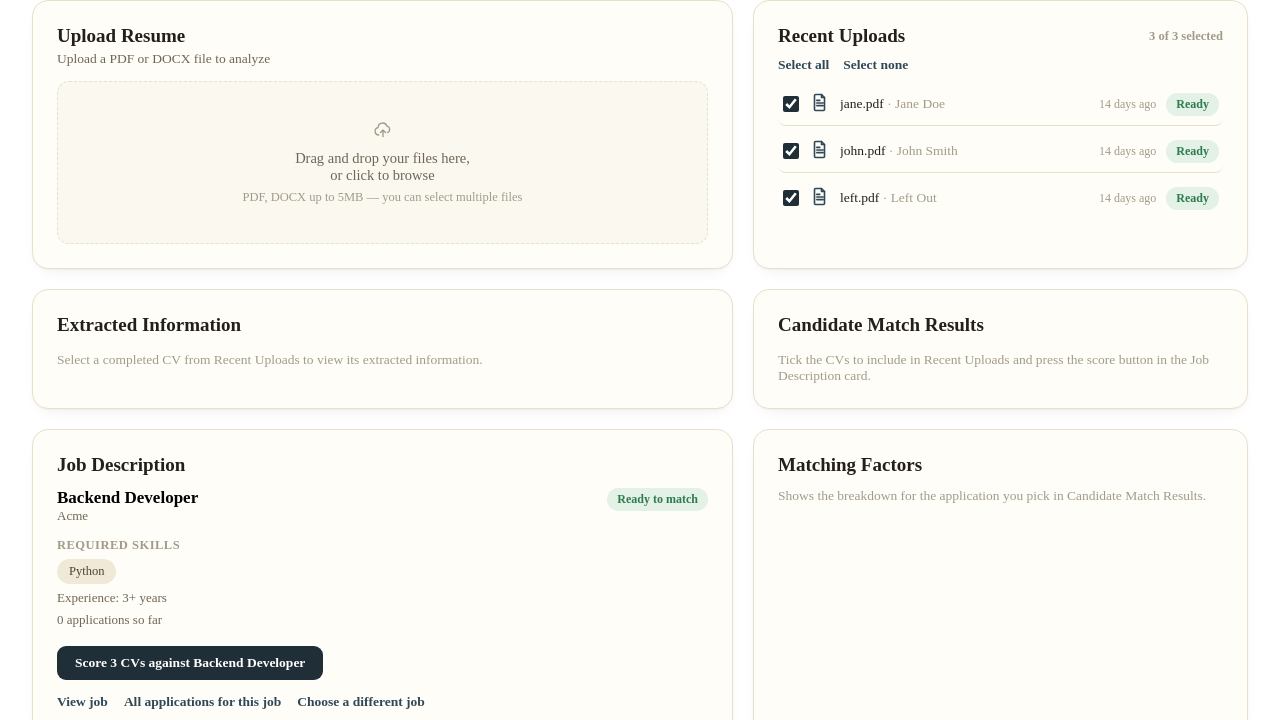
Scenario: DashboardPage - batch ranking and breakdown › select two CVs → score → ranking renders → clicking the second row fills the factors card
Expected: the text "3 of 3 selected" is shown, [1149,28,1223,44]
Click the checkbox named "Include left.pdf in the batch" at (791, 198), box [783,190,799,206]
(page scrolled)
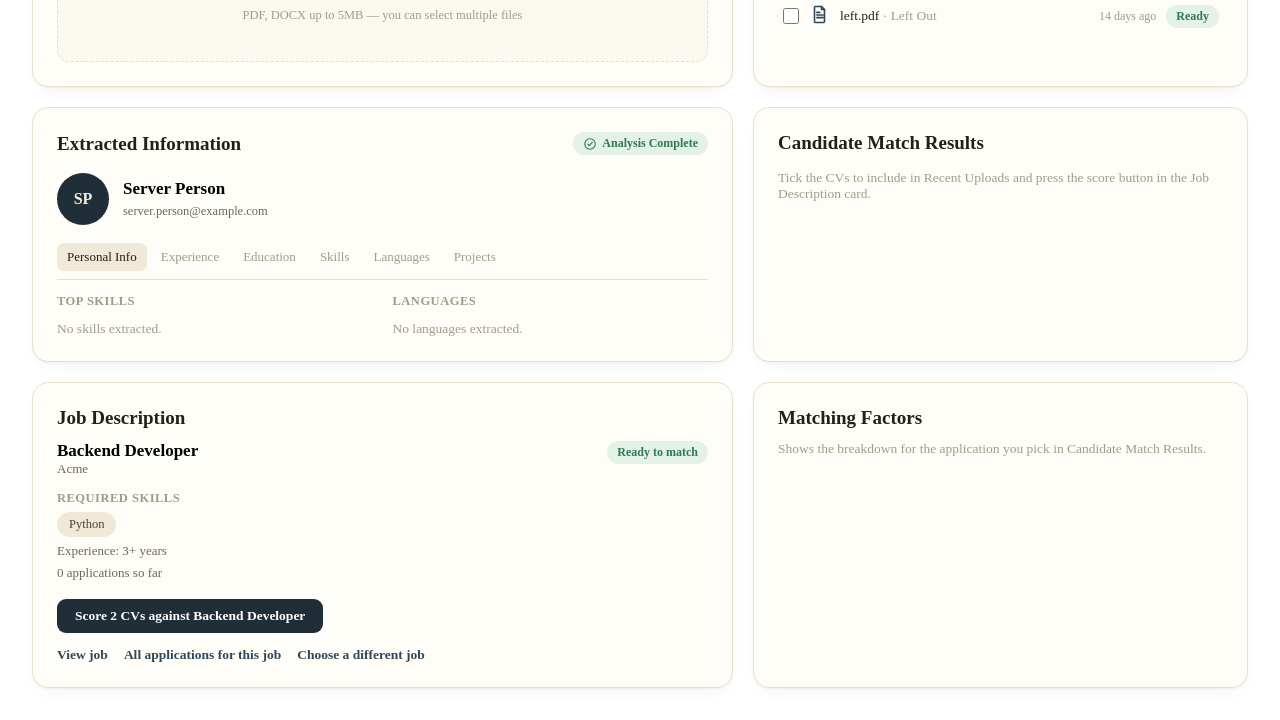
Click the button "Score 2 CVs against Backend Developer" at (190, 616), box [57,599,323,633]
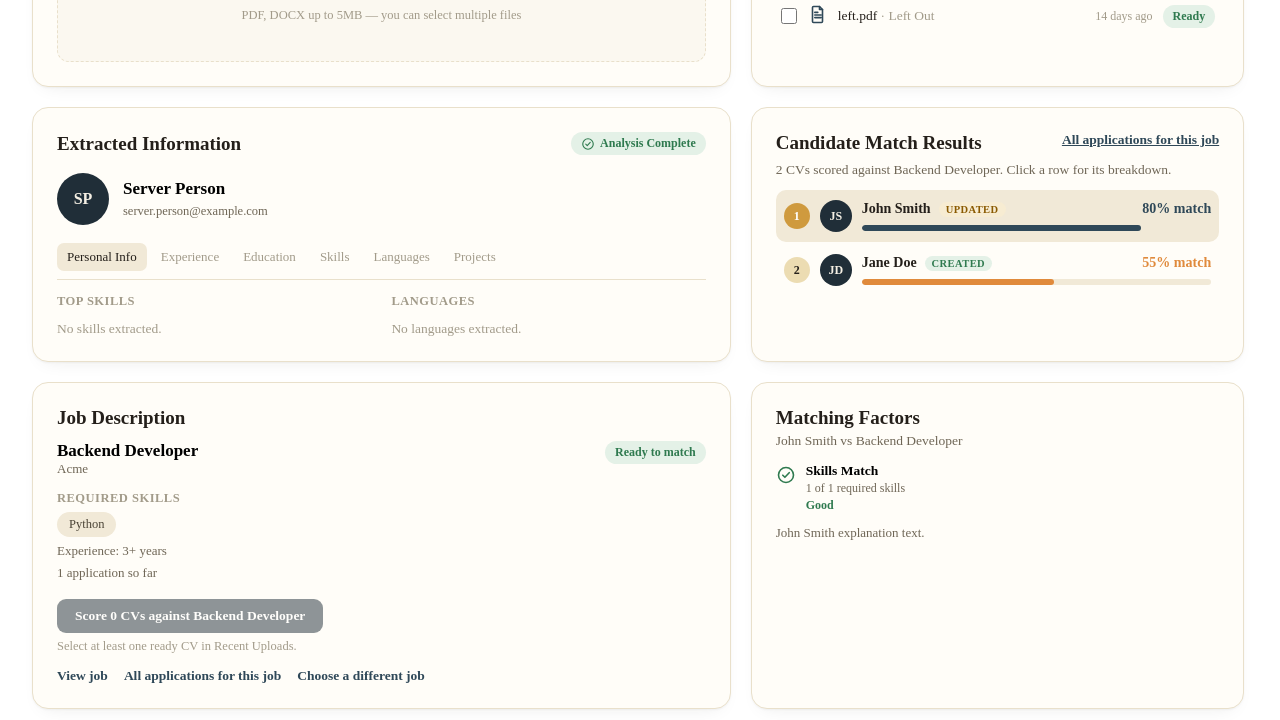
Expected: the text "John Smith" is shown, [862,201,931,217]
Expected: the text "Updated" is shown, [939,202,1006,216]
Expected: the text "80% match" is shown, [1142,201,1211,217]
// ...and clicking the second row replaces it.
Click the button that starts with "Jane Doe" at (836, 270), box [776,244,1219,296]
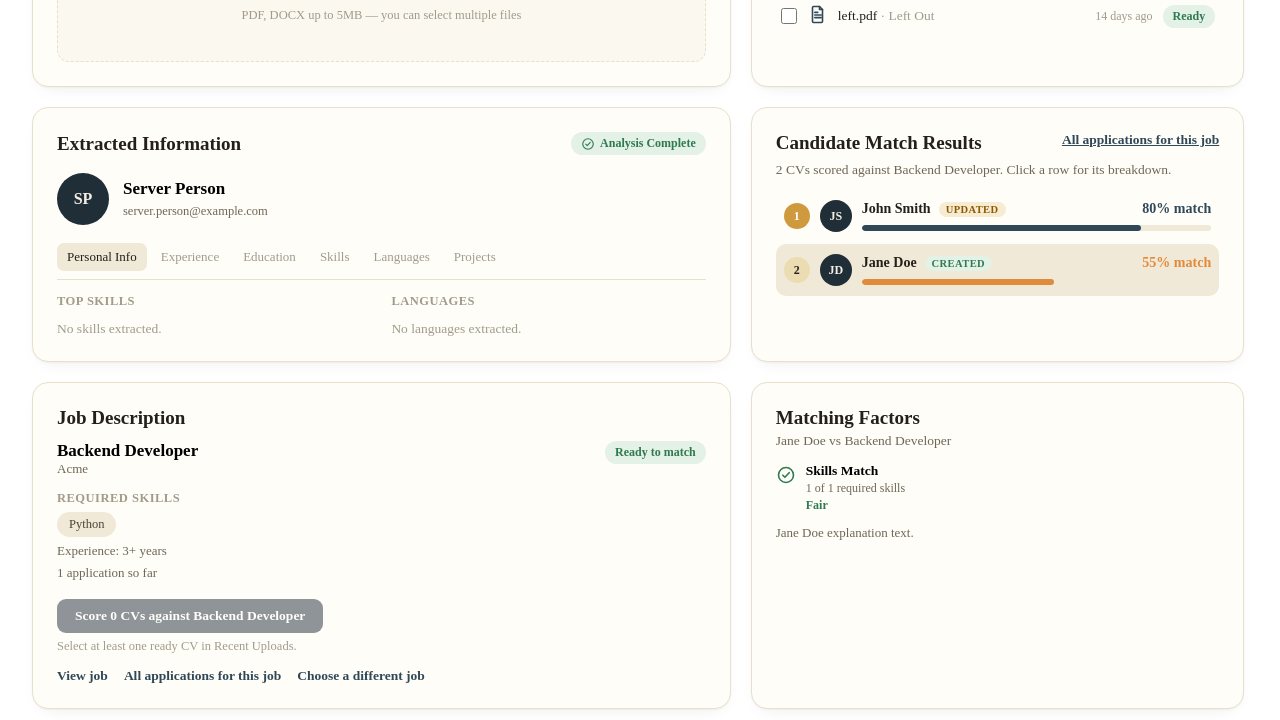
Expected: the text "Jane Doe vs Backend Developer" is shown, [776,433,951,448]
Expected: the text "Jane Doe explanation text." is shown, [776,525,914,540]
Expected: the text "John Smith vs Backend Developer" is gone
